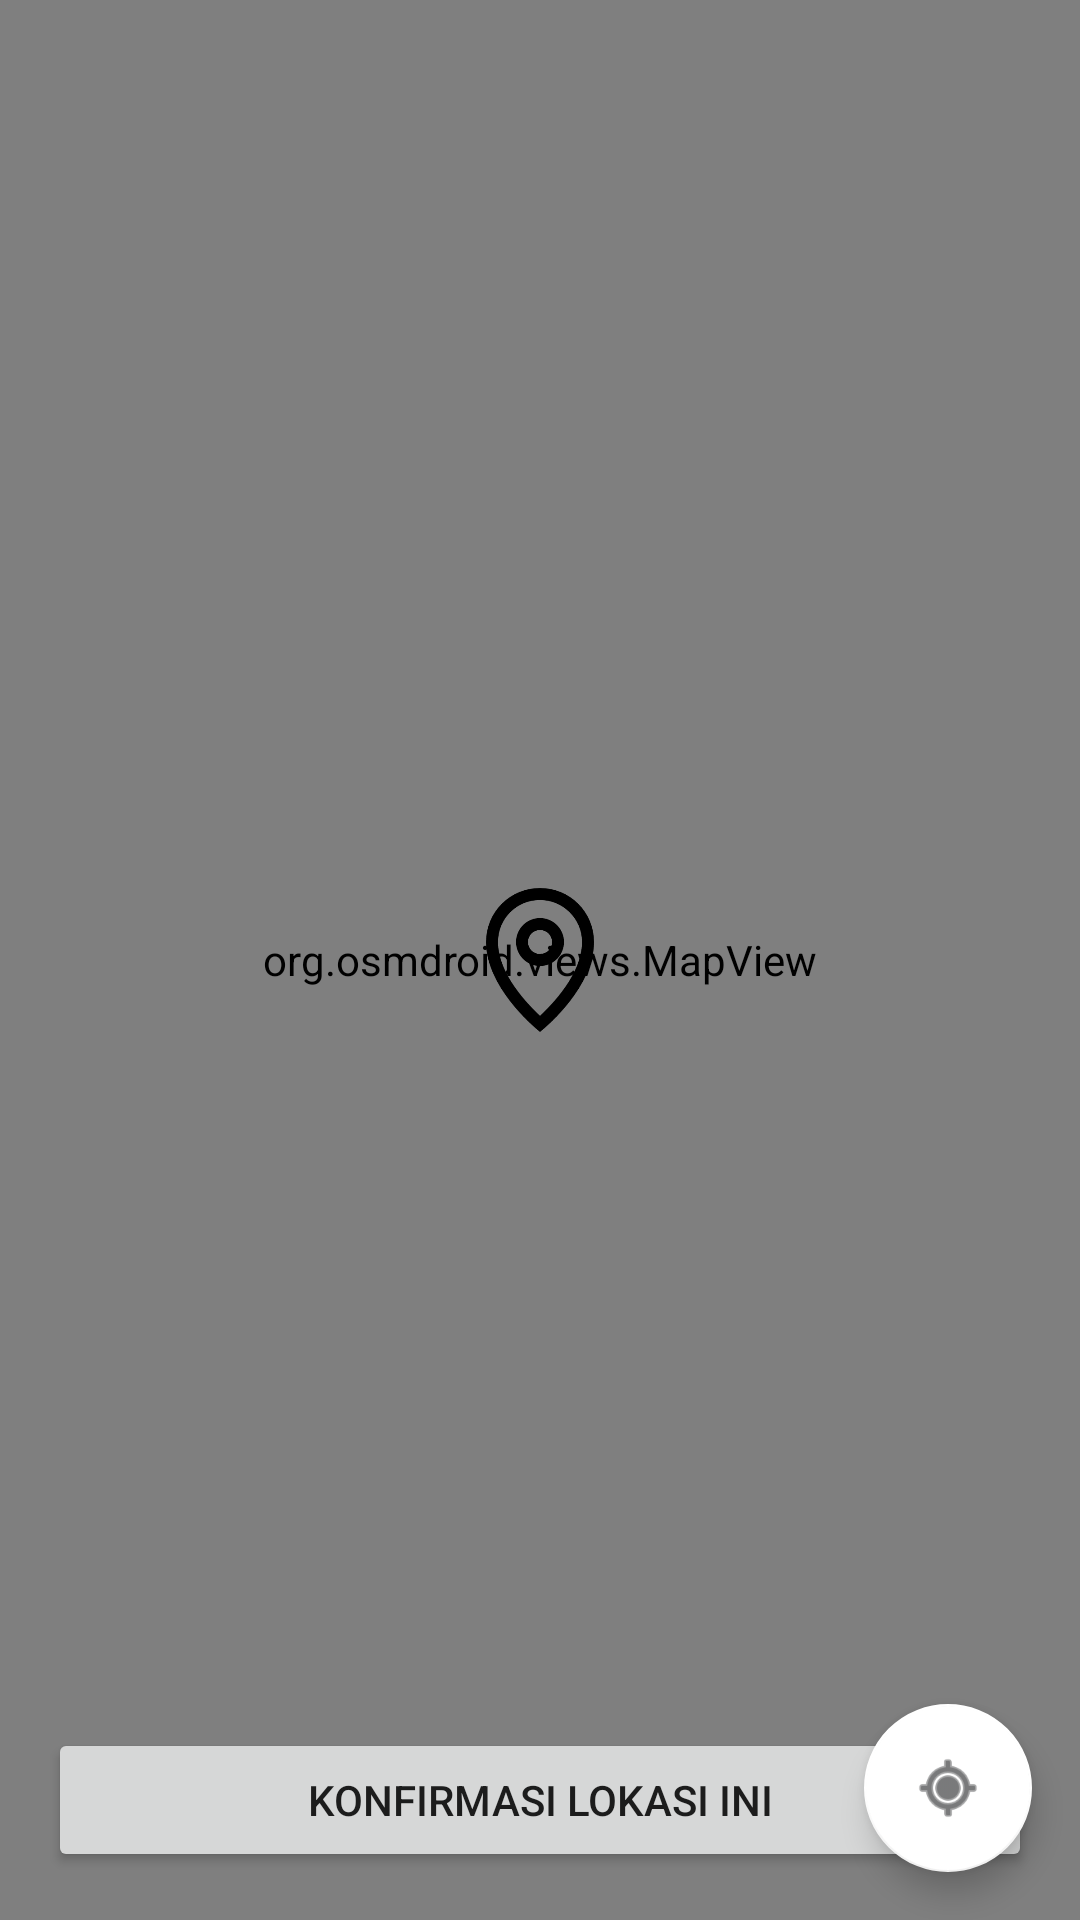

Icons on this 1080w x 1920h Android screen, each with its box as (x1=x1, y1=y1, x2=x2, y2=y2):
Lokasi Saya: (x1=864, y1=1704, x2=1032, y2=1872)
Penanda Lokasi: (x1=483, y1=888, x2=608, y2=1032)
